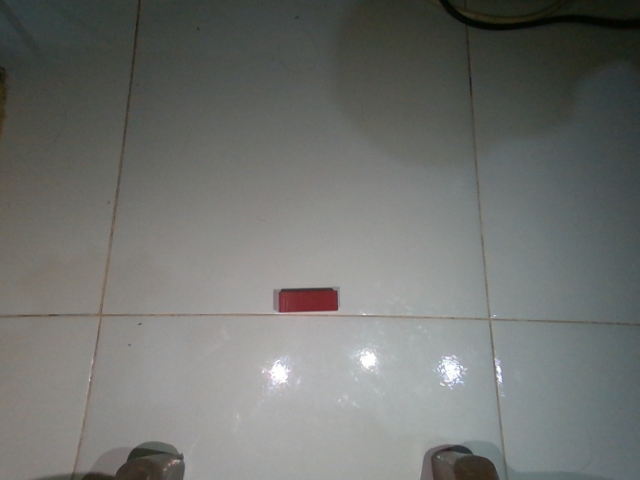Balok-Merah-Marun: (277, 288, 338, 315)
